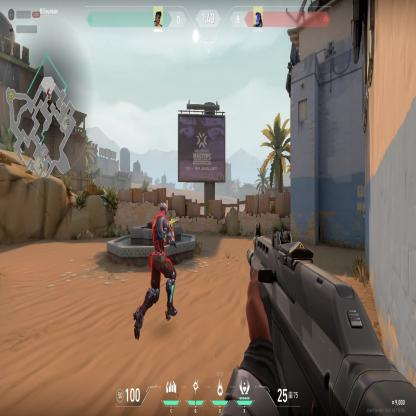enemy: (143, 200, 180, 321)
